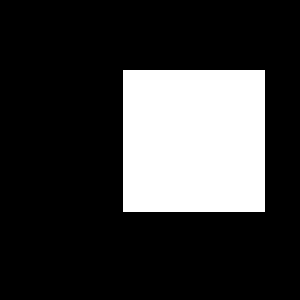circle: (123, 70, 265, 212)
